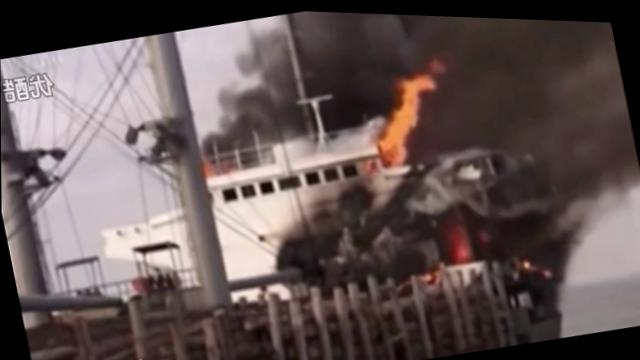fire: (377, 122, 409, 164), (394, 81, 421, 120), (402, 68, 436, 90), (391, 104, 411, 134)
